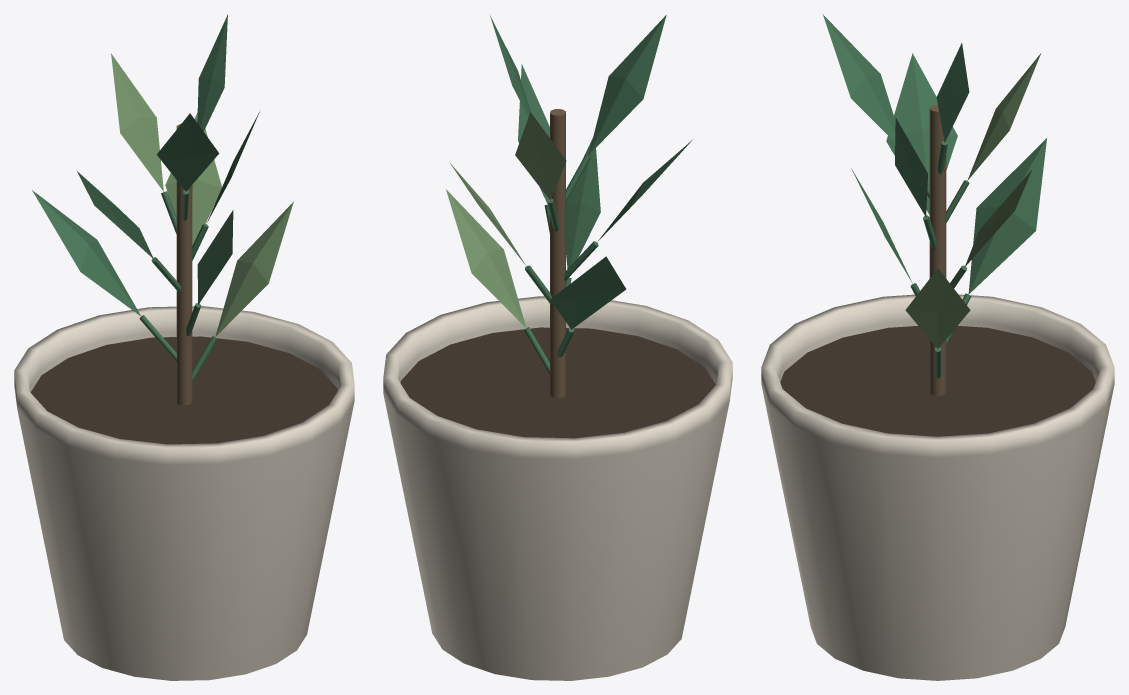
File: plant_potted_small.glb
The picture shows the model from 3 angles, left to right: view 1: azimuth 30°, elevation 25°; view 2: azimuth 150°, elevation 25°; view 3: azimuth 270°, elevation 25°; orthographic projection. The views are drawn at different scales.
Visible parts, largest first — view 1: plant_potted_small; view 2: plant_potted_small; view 3: plant_potted_small.
Boxes of the visible parts, box(x1,y1,x2,y2) form: plant_potted_small: box(14, 14, 354, 680); plant_potted_small: box(383, 15, 732, 680); plant_potted_small: box(761, 14, 1114, 680).
Bounding box in the file's own units: 0.21 × 0.4015 × 0.21.
